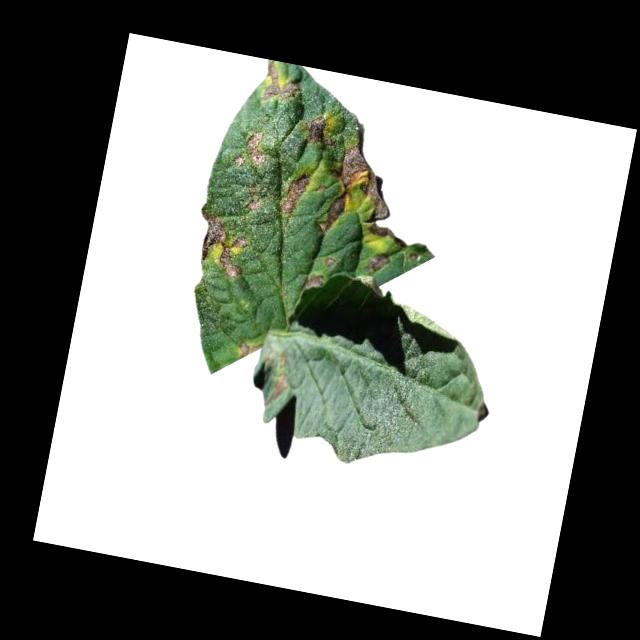Early_blight: (313, 138, 402, 244), (187, 206, 253, 282), (258, 58, 304, 107), (257, 349, 295, 406), (234, 128, 272, 172), (280, 169, 313, 219), (364, 222, 406, 246), (304, 114, 328, 147), (236, 336, 263, 364), (364, 251, 392, 277), (243, 179, 262, 214), (303, 272, 327, 292), (320, 255, 337, 269)
